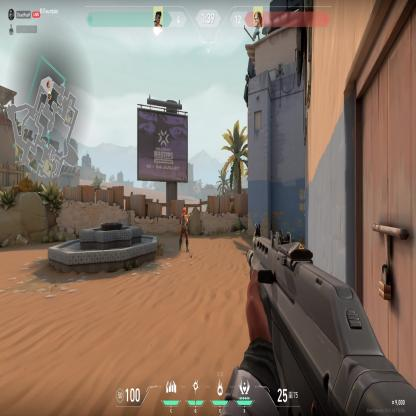enemy: (178, 206, 190, 255)
